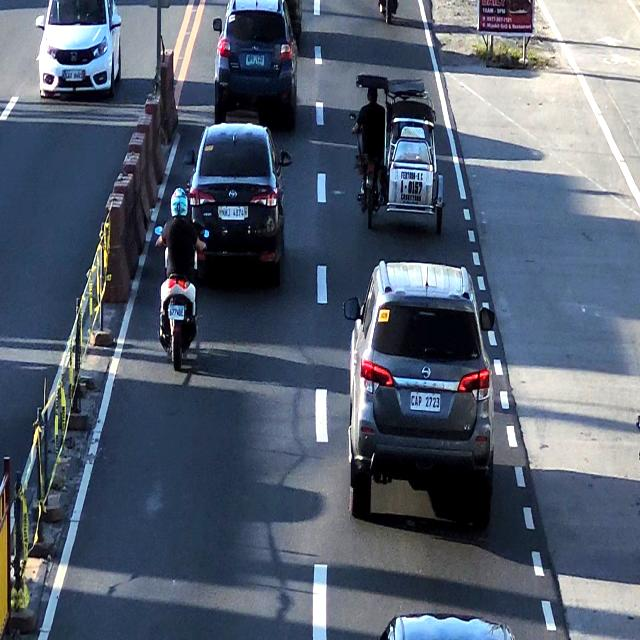Car: (341, 266, 486, 514), (198, 121, 290, 277), (214, 0, 302, 115), (371, 600, 516, 640)
License-Plate: (408, 391, 444, 412), (220, 204, 249, 225), (244, 50, 266, 68), (167, 306, 185, 318)
Motorcycle: (160, 180, 201, 373)
Tricycle: (352, 74, 447, 225)
